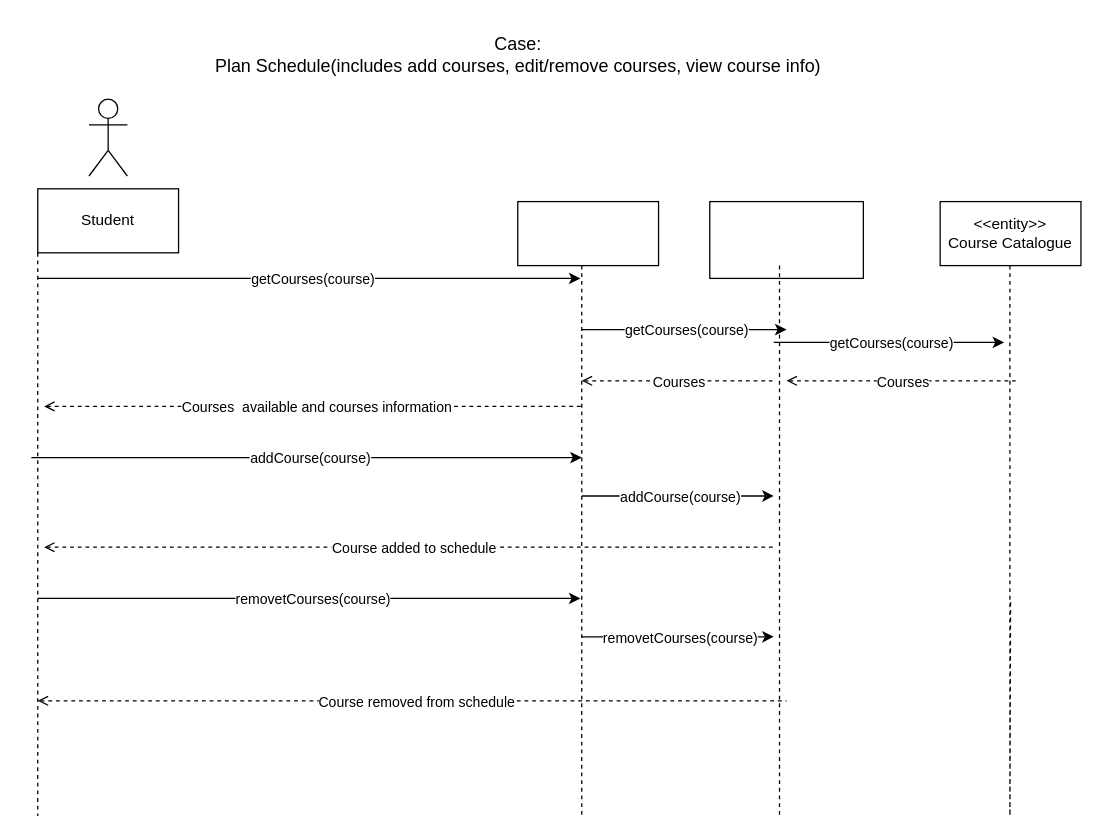
Some shapes in this 1103 by 840 pixel diagram are drawn without their labels. The box of each missing label's shape, as (x1, y1, x2, y2) in pixels:
<<controller>> getCourseController: (708, 200, 863, 278)
ScheduleUI: (516, 200, 659, 266)
